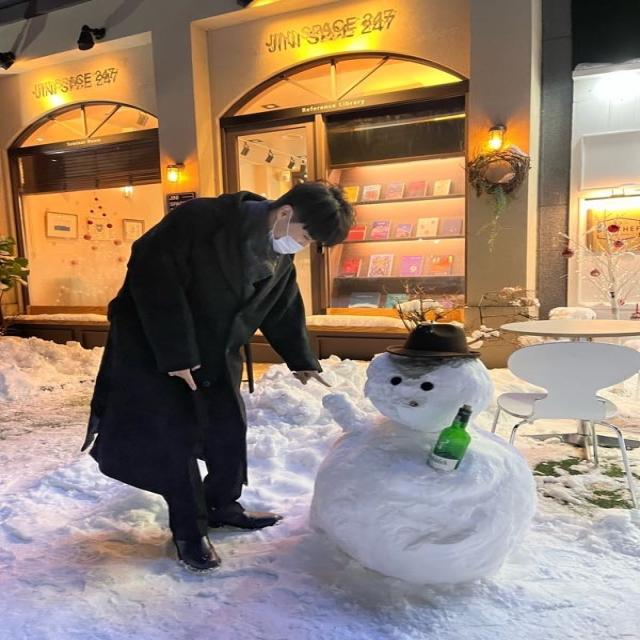coat: (77, 189, 320, 484)
slacks: (167, 350, 245, 539)
